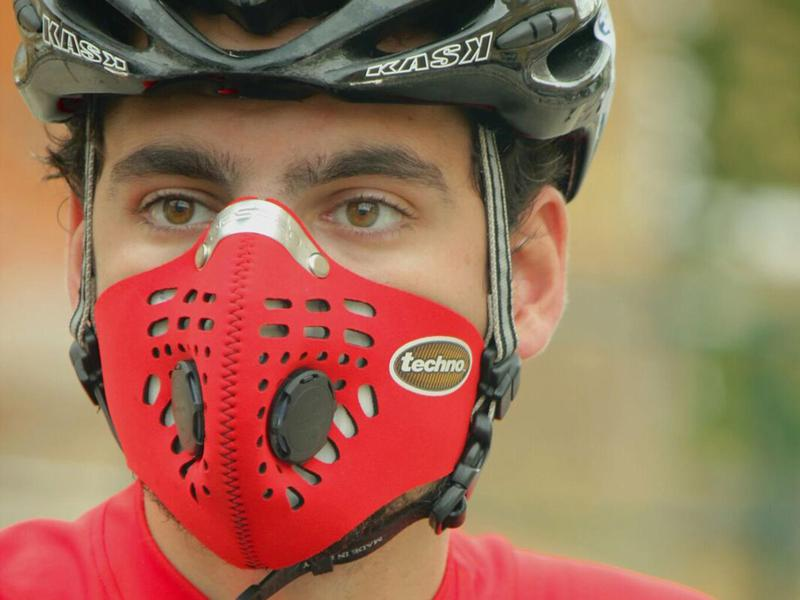with_mask: (87, 95, 488, 569)
